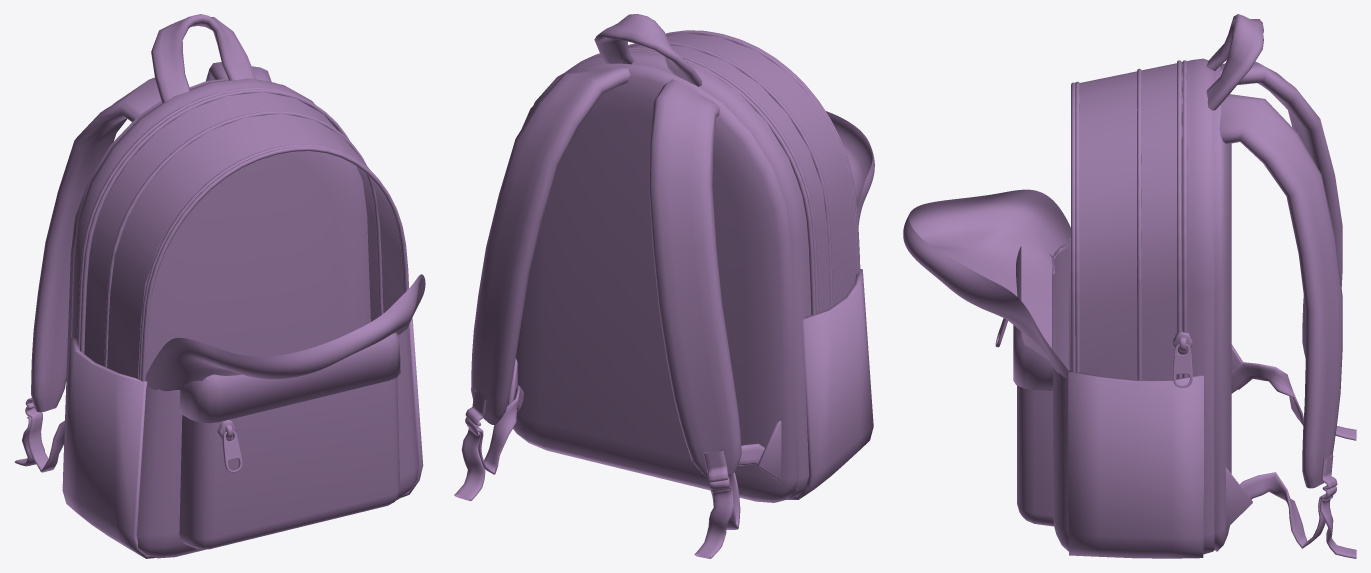
Rendered from Placeholder_Backpack.fbx.
3 views of the same model, side by side, from view 1: azimuth 30°, elevation 25°; view 2: azimuth 150°, elevation 25°; view 3: azimuth 270°, elevation 25° (orthographic). The views are drawn at different scales.
Parts seen in each view (by area): view 1: BackPanel.002; view 2: BackPanel.002; view 3: BackPanel.002.
Part boxes in pixels (x1=…): BackPanel.002: x1=15, y1=14, x2=425, y2=558; BackPanel.002: x1=454, y1=14, x2=874, y2=558; BackPanel.002: x1=903, y1=14, x2=1356, y2=558.
Bounding box in the file's own units: 73.09 × 103 × 88.09.
